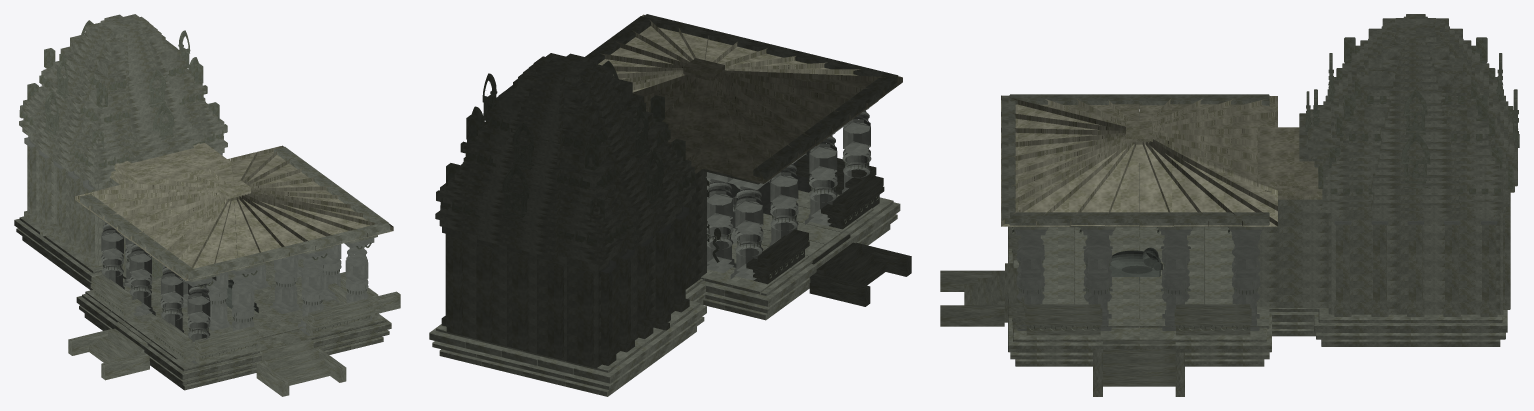
Rendered from Tambdi-Surla-Mahadev-Temple.glb.
The picture shows the model from 3 angles, left to right: view 1: azimuth 30°, elevation 25°; view 2: azimuth 150°, elevation 25°; view 3: azimuth 270°, elevation 25°; orthographic projection. The views are drawn at different scales.
Visible parts, largest first — view 1: Weathered grey-black temple stone, Roof slabs, Pillar mouldings, Carved stone details; view 2: Weathered grey-black temple stone, Roof slabs, Pillar mouldings, Carved stone details; view 3: Weathered grey-black temple stone, Roof slabs, Pillar mouldings, Carved stone details, Nandi sculpture.
Boxes of the visible parts, box(x1,y1,x2,y2) form: Weathered grey-black temple stone: box(14, 14, 400, 396); Roof slabs: box(75, 143, 393, 280); Pillar mouldings: box(24, 137, 374, 363); Carved stone details: box(19, 20, 371, 359); Weathered grey-black temple stone: box(429, 14, 911, 396); Roof slabs: box(598, 14, 902, 183); Pillar mouldings: box(442, 100, 878, 280); Carved stone details: box(436, 60, 878, 278); Weathered grey-black temple stone: box(940, 14, 1517, 396); Roof slabs: box(1001, 95, 1322, 226); Pillar mouldings: box(1014, 221, 1497, 330); Carved stone details: box(1012, 37, 1519, 330); Nandi sculpture: box(1110, 247, 1162, 283).
Bounding box in the file's own units: 10.32 × 7.5 × 14.07.
6 materials, 6 textured.
